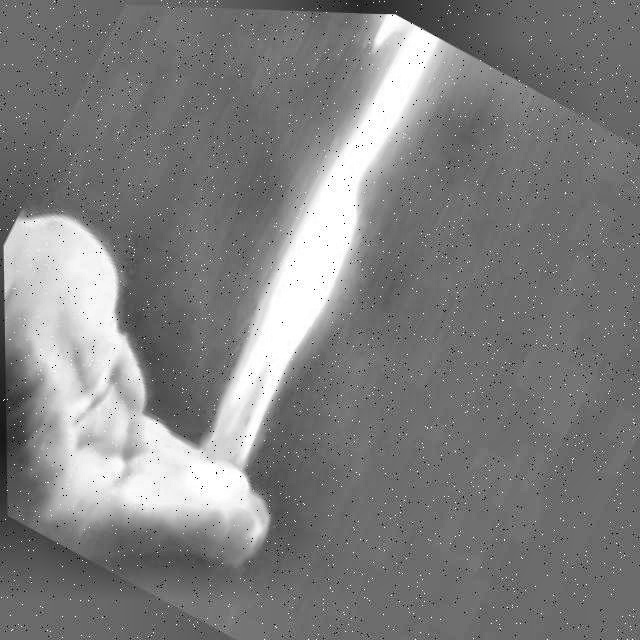Fire: (121, 4, 475, 535)
